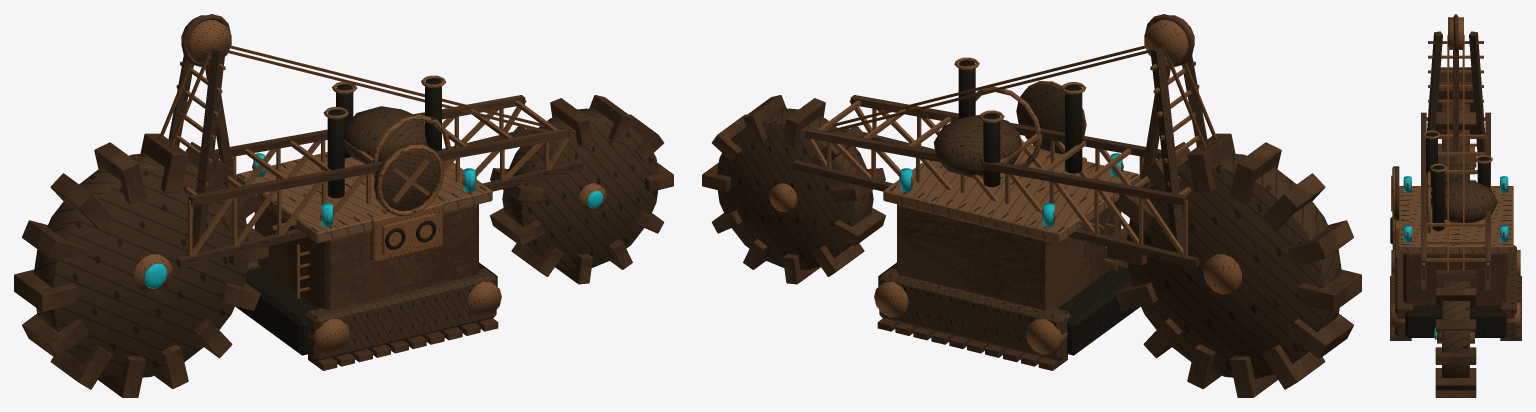
The model's file is old-digger.glb.
3 views of the same model, side by side, from view 1: azimuth 30°, elevation 25°; view 2: azimuth 150°, elevation 25°; view 3: azimuth 270°, elevation 25° (orthographic). The views are drawn at different scales.
Visible parts, largest first — view 1: bucket_wheels, tape_deck, gantry; view 2: bucket_wheels, tape_deck, gantry; view 3: tape_deck, bucket_wheels, gantry.
Part boxes in pixels (left/top/right/bottom): bucket_wheels: left=14, top=95, right=673, bottom=397; tape_deck: left=236, top=75, right=501, bottom=370; gantry: left=158, top=14, right=583, bottom=298; bucket_wheels: left=702, top=95, right=1361, bottom=397; tape_deck: left=874, top=57, right=1139, bottom=370; gantry: left=792, top=14, right=1217, bottom=270; tape_deck: left=1390, top=130, right=1521, bottom=340; bucket_wheels: left=1434, top=67, right=1476, bottom=397; gantry: left=1421, top=14, right=1490, bottom=294.
Bounding box in the file's own units: 12.4 × 6.6 × 3.16.
1 material, 1 textured.
